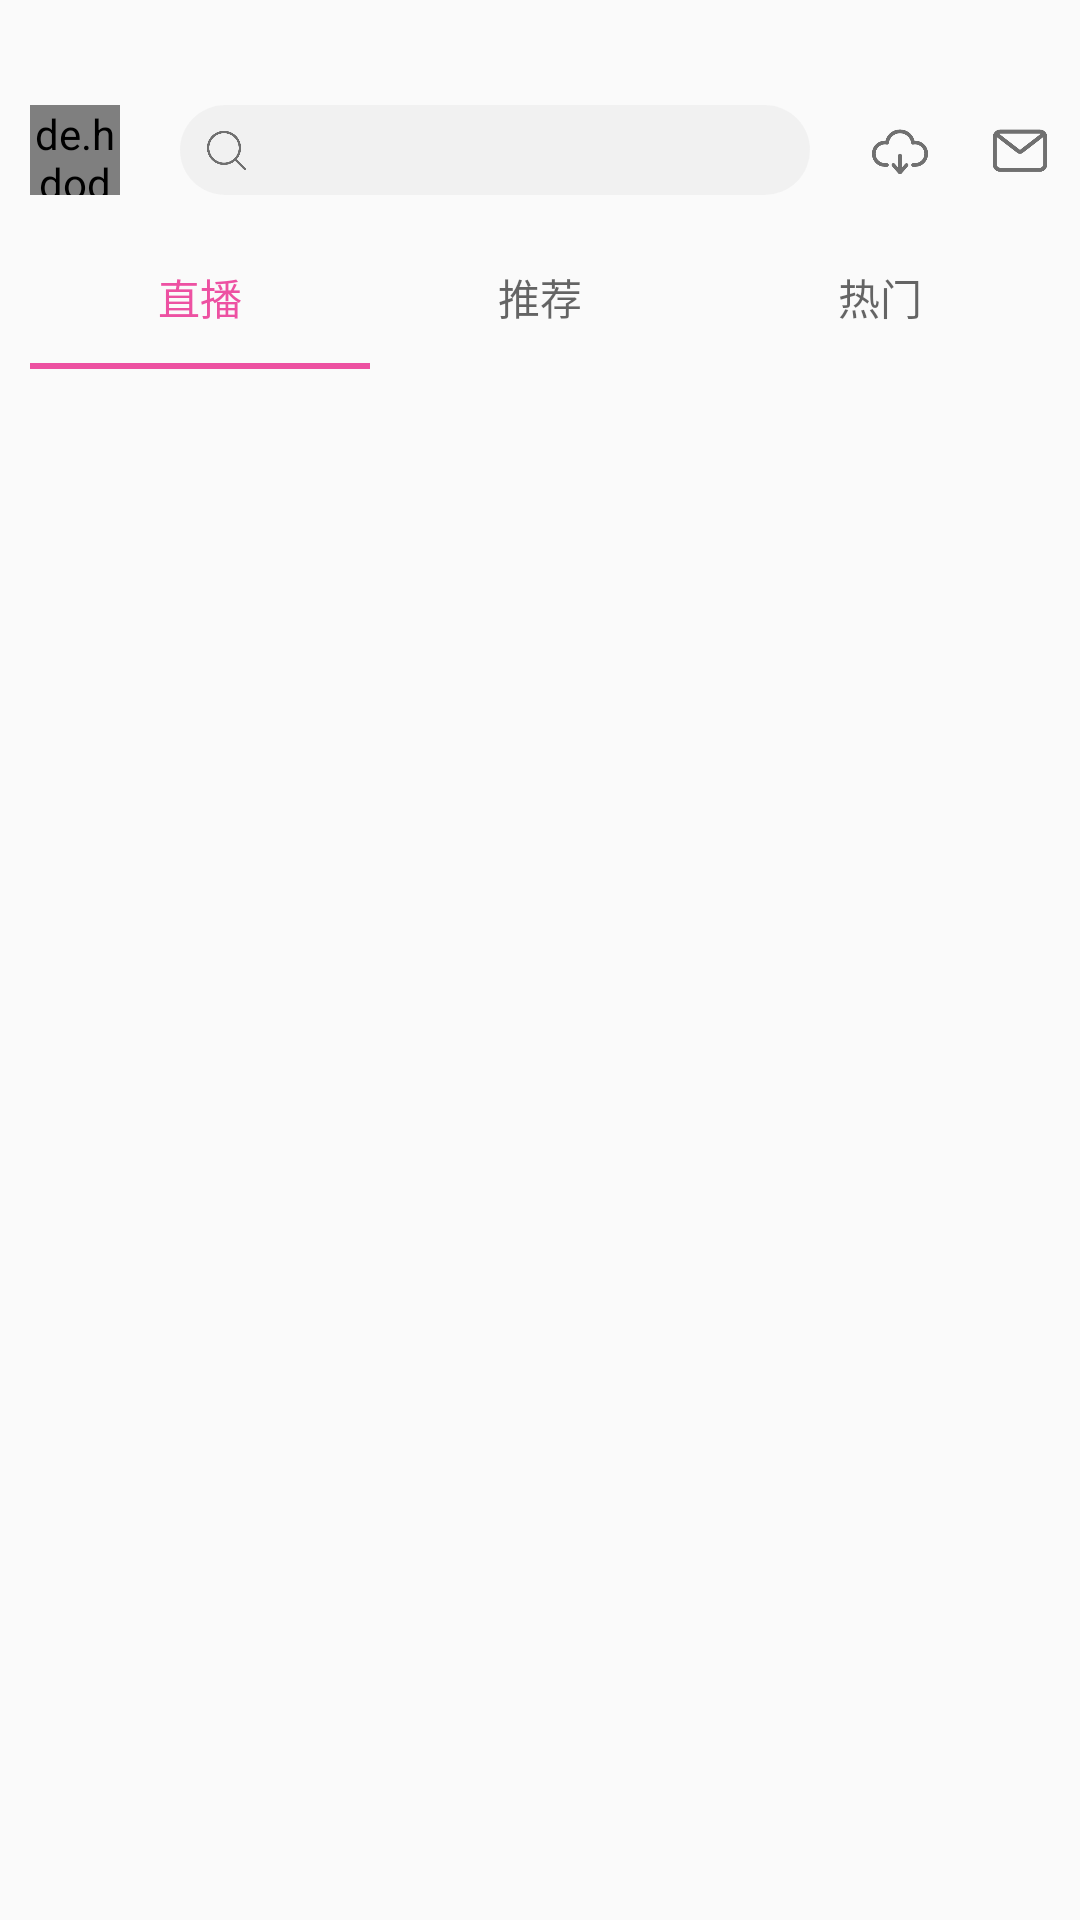

Screen size 1080x1920. Icon name, then its center in pixels as point (x, y):
download: point (900, 151)
message: point (1020, 150)
search: point (226, 150)
